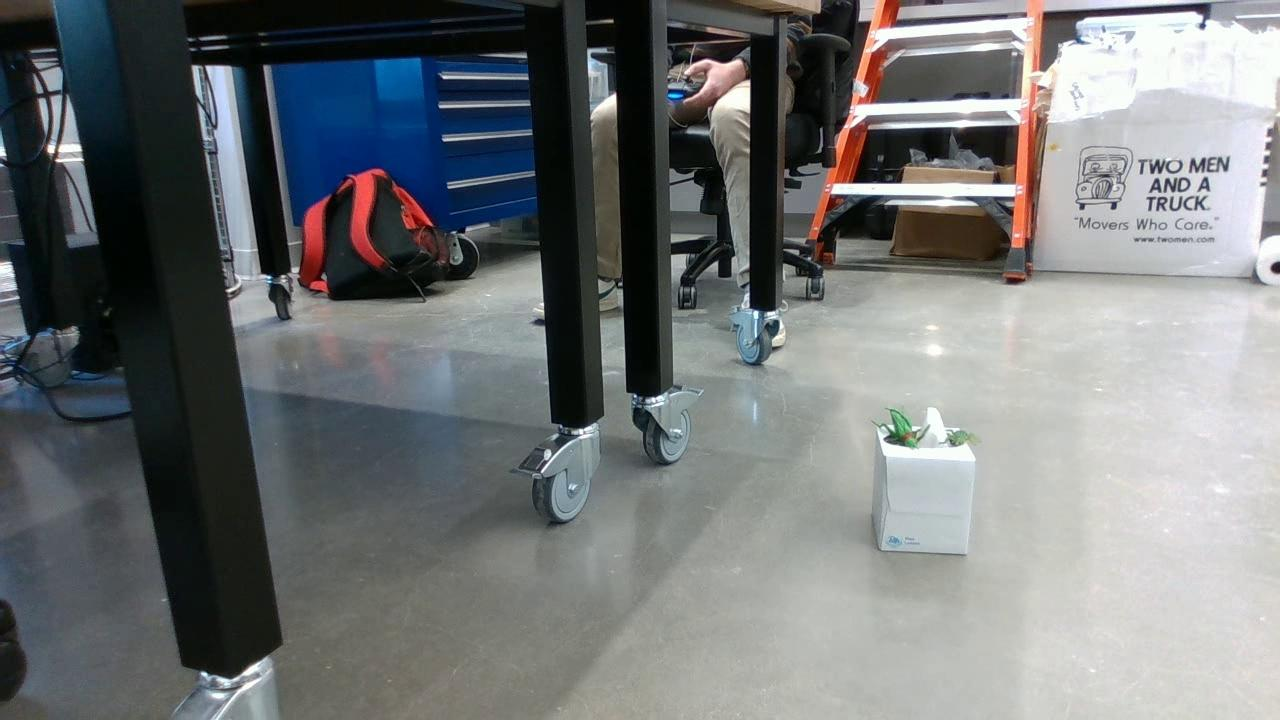grasshopper: (870, 409, 922, 452)
